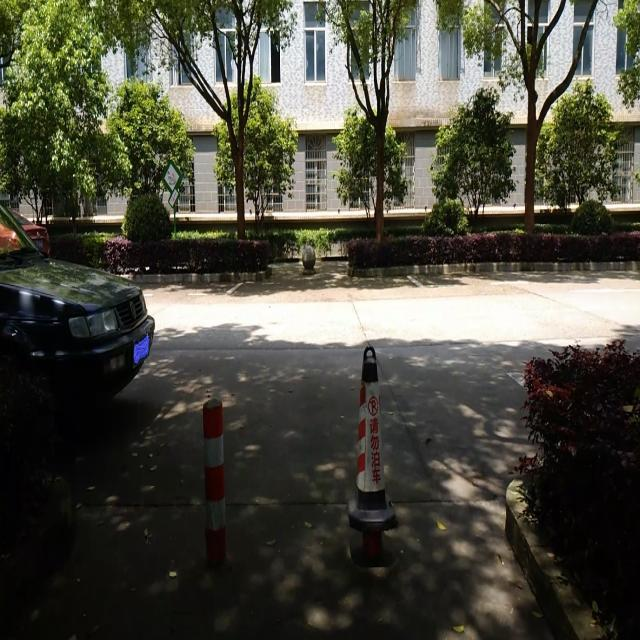car: (2, 202, 153, 416)
reflective_cone: (344, 344, 400, 531)
spherical_roadblock: (301, 245, 316, 274)
warning_column: (200, 395, 232, 562)
